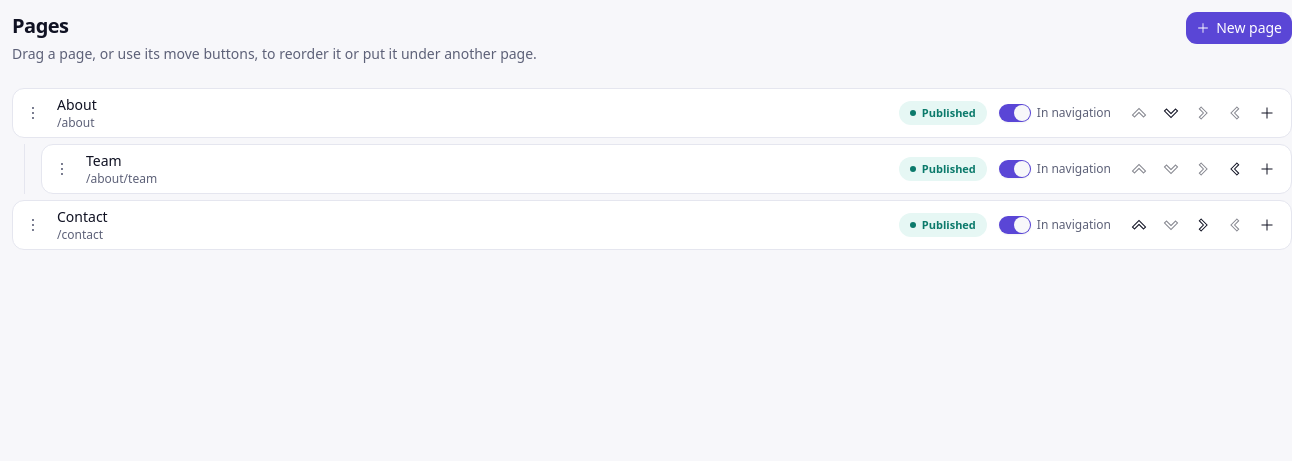
Scenario: Pages screen › writes the parent and order through the content update with If-Match, then offers a redirect
Click the button named "Move Contact into the page above" at point(1203, 225), box [1187,209,1219,241]
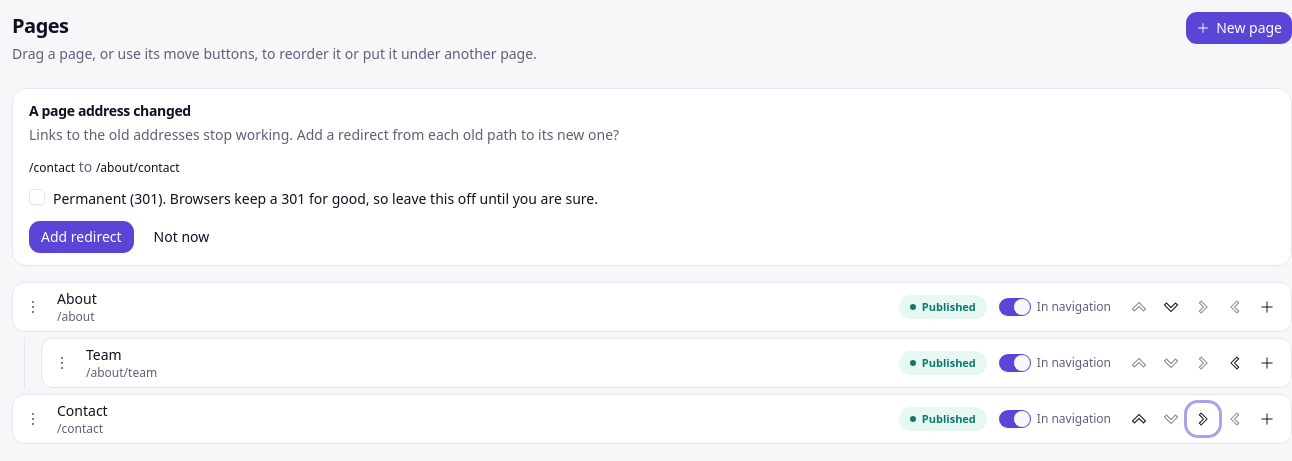
expect the text "/contact" in the row of "/about/contact" is shown: met, box [29,159,75,176]
expect the text "/about/contact" is shown: met, box [96,159,180,176]
Click the button "Add redirect" at point(81, 237), box [29,221,134,253]
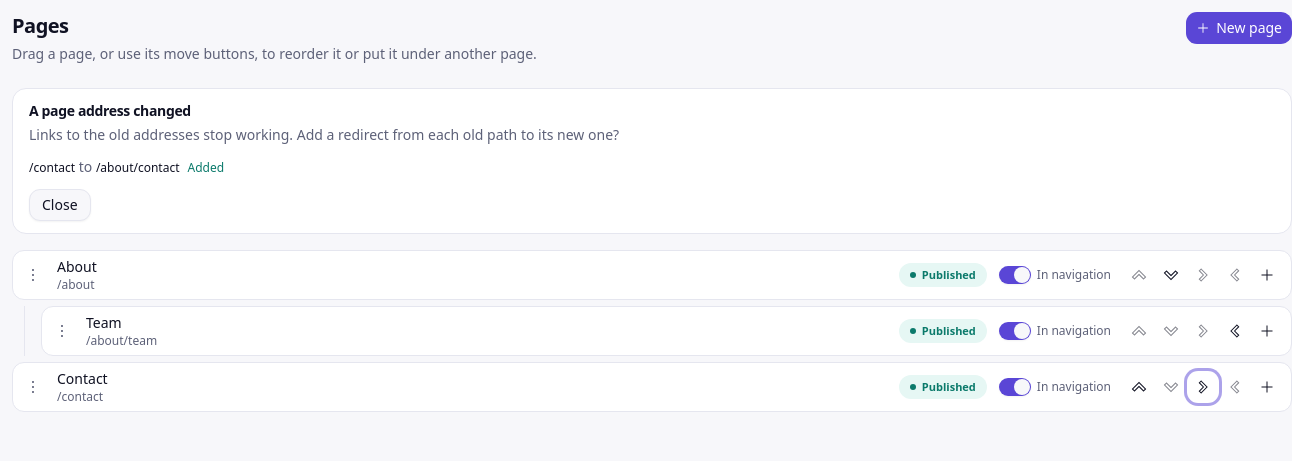
expect the text "Added" is shown: met, box [188,159,224,176]
